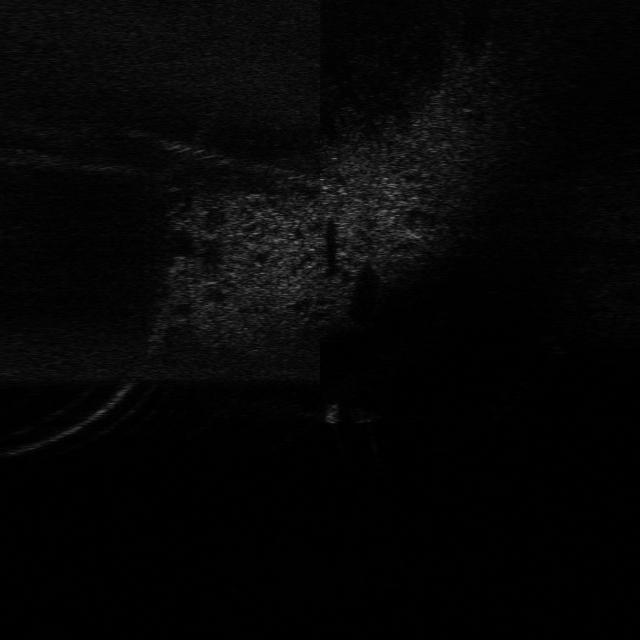cube: (346, 405, 383, 426)
cylinder: (318, 395, 343, 428)
